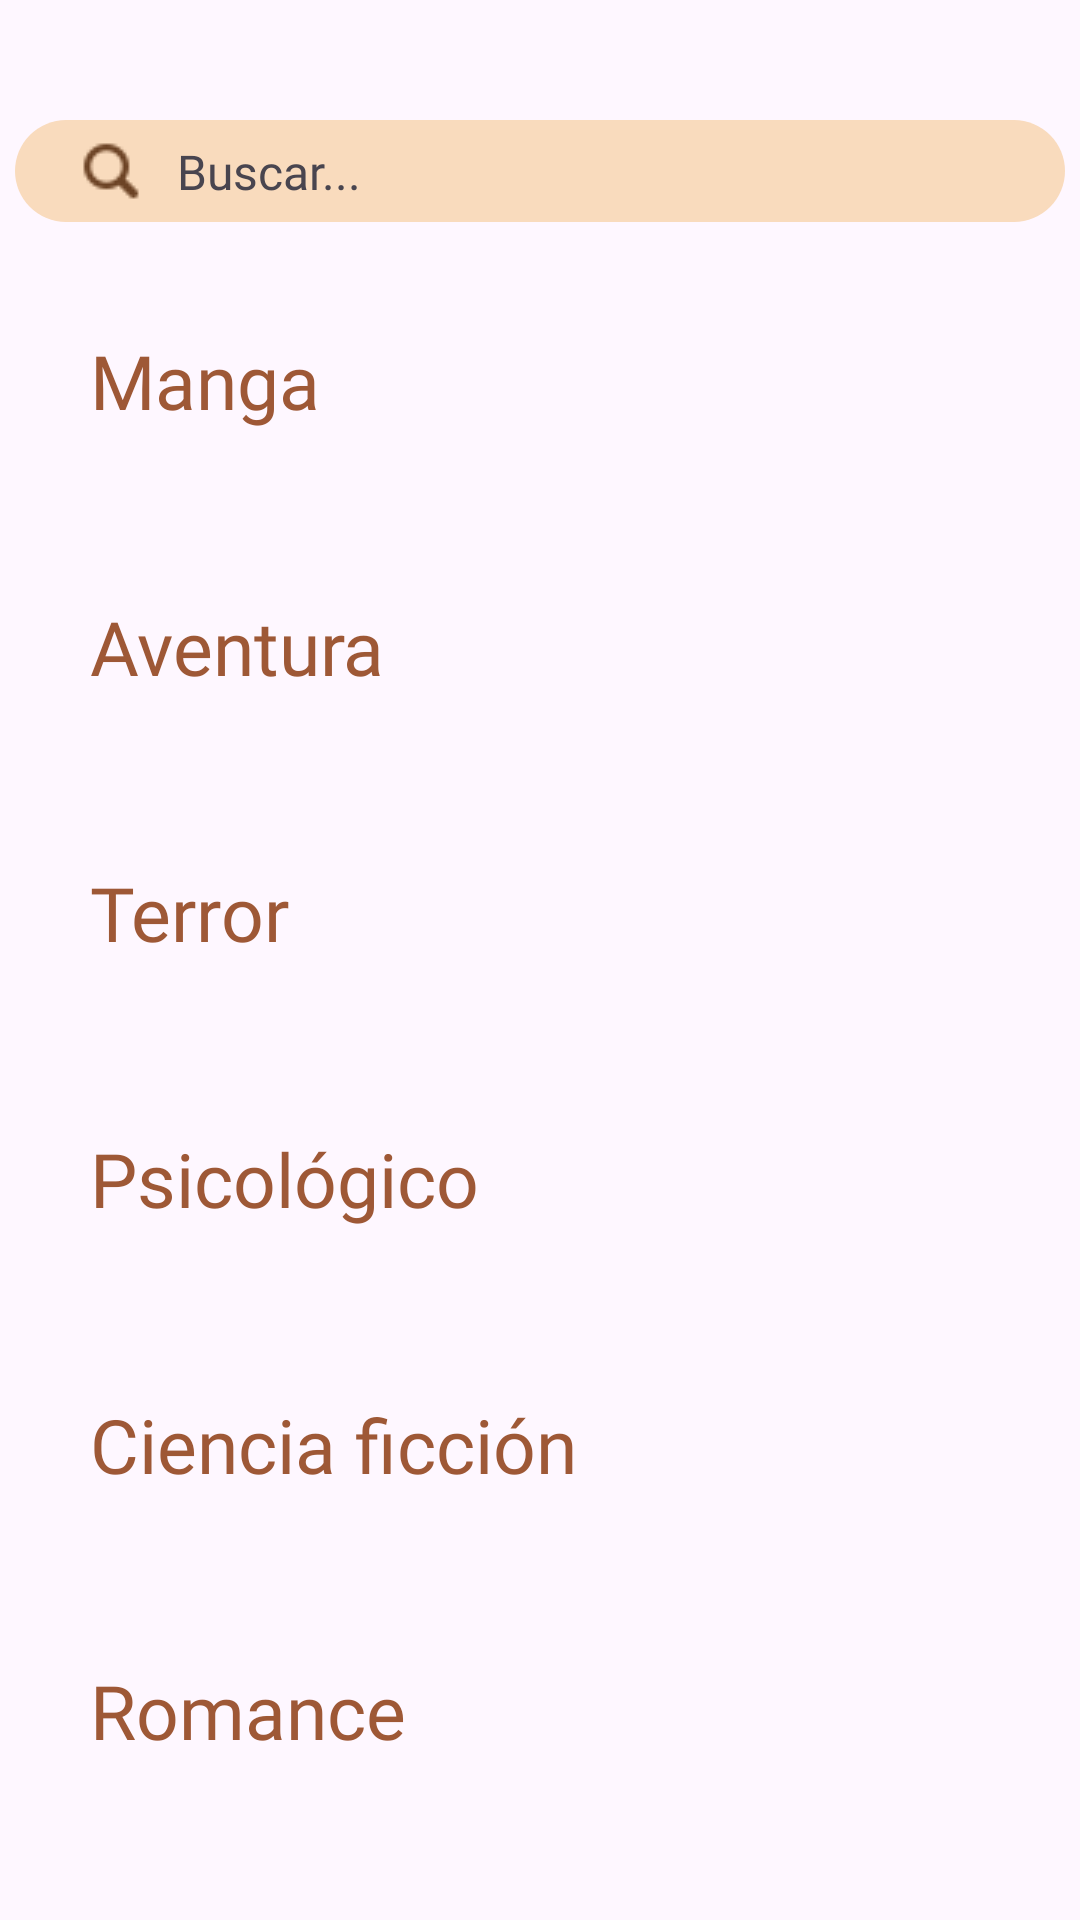

Icons on this 1080w x 1920h Android screen, each with the point to tap as point (x, y):
lupa: point (111, 171)
